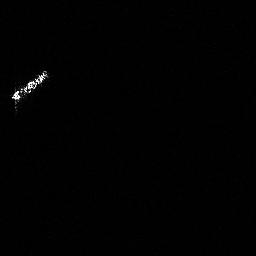ship: (10, 70, 48, 113)
